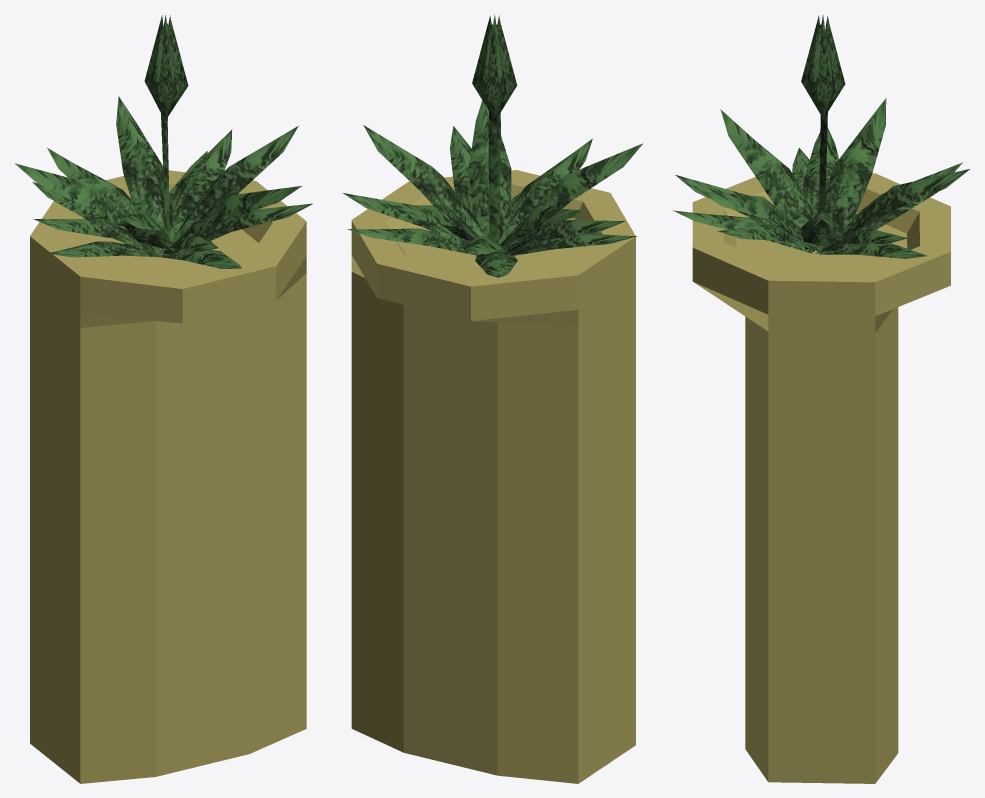
File: tower-pot-art.glb
3 views of the same model, side by side, from view 1: azimuth 30°, elevation 25°; view 2: azimuth 150°, elevation 25°; view 3: azimuth 270°, elevation 25° (orthographic).
Parts seen in each view (by area): view 1: Tower_Pot_Art; view 2: Tower_Pot_Art; view 3: Tower_Pot_Art.
Boxes of the visible parts, x1,y1,x2,y2 form: Tower_Pot_Art: (15, 15, 312, 783); Tower_Pot_Art: (343, 14, 642, 783); Tower_Pot_Art: (672, 15, 969, 783).
Size of the model in its own units: 0.6043 by 1.57 by 0.5979.
2 materials, 1 textured.
